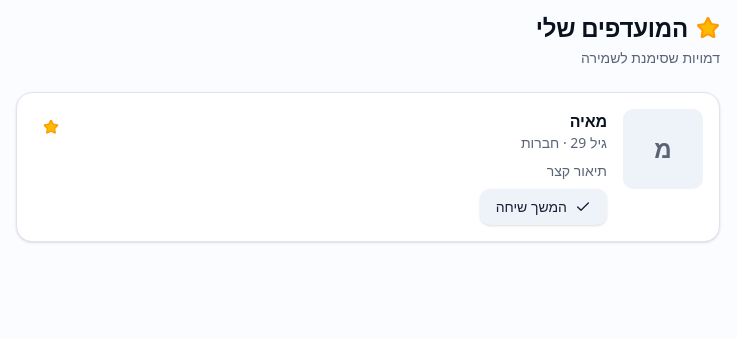
it: client favorites workflow › preserves valid cached data when ambiguous reconciliation fails and recovers by read retry
Step 1. Click the button named "הסר ממועדפים" → {"x": 51, "y": 127}, box top-left (33, 109), bottom-right (69, 145)
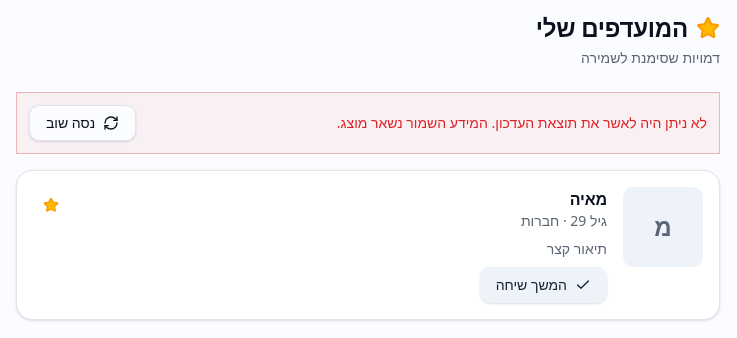
Expected: the heading "מאיה" is shown, top-left (570, 188), bottom-right (607, 210)
Expected: the message shows "לא ניתן היה לאשר", top-left (337, 113), bottom-right (707, 132)
Step 2. Click the button "נסה שוב" → {"x": 83, "y": 123}, box top-left (29, 105), bottom-right (136, 141)
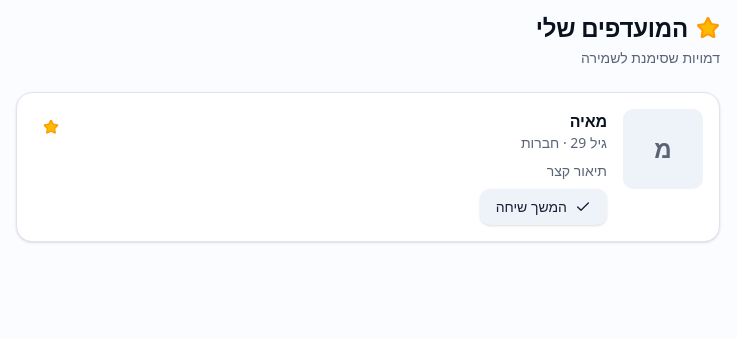
Expected: the heading "מאיה" is shown, top-left (570, 110), bottom-right (607, 132)
Expected: the message "לא ניתן היה לאשר את תוצאת העדכון. המידע השמור נשאר מוצג. נסה שוב" is gone
